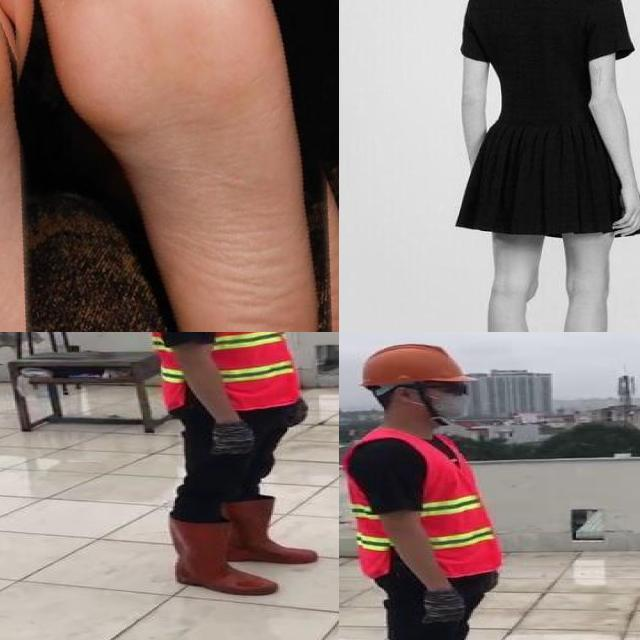Barefoots: (35, 0, 339, 332)
boots: (167, 513, 281, 597), (228, 496, 318, 566)
face_mask: (420, 380, 474, 422)
glasses: (425, 378, 473, 398)
hand_glove: (198, 421, 255, 459), (418, 588, 469, 626)
hand_noglove: (604, 165, 640, 248)
head_helmet: (356, 342, 474, 389)
person: (452, 0, 640, 332), (339, 337, 523, 640), (133, 332, 323, 591)
vest: (347, 429, 503, 577), (136, 332, 303, 408)
